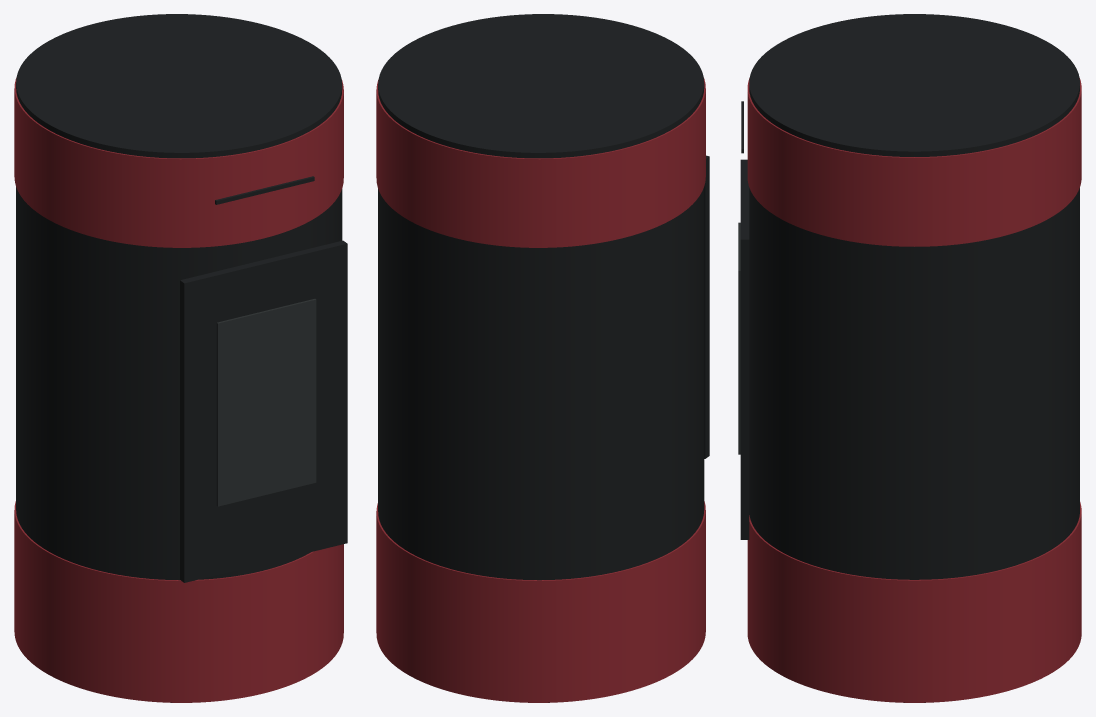
Rendered from ravelli-hrv-140-globe-bordeaux.glb.
The picture shows the model from 3 angles, left to right: view 1: azimuth 30°, elevation 25°; view 2: azimuth 150°, elevation 25°; view 3: azimuth 270°, elevation 25°; orthographic projection.
Visible parts, largest first — view 1: Corpo, Fascia inferiore, Coperchio, Porta, Fascia superiore, Vetro sportello, Fessura superiore; view 2: Corpo, Fascia inferiore, Coperchio, Fascia superiore, Porta; view 3: Corpo, Fascia inferiore, Coperchio, Fascia superiore, Porta, Vetro sportello.
Boxes of the visible parts, x1,y1,x2,y2 form: Corpo: (16,97,342,702); Fascia inferiore: (14,501,343,702); Coperchio: (16,14,342,158); Porta: (180,240,347,582); Fascia superiore: (14,77,343,247); Vetro sportello: (216,299,316,506); Fessura superiore: (215,176,314,204); Corpo: (378,88,704,702); Fascia inferiore: (376,501,705,702); Coperchio: (378,14,704,158); Fascia superiore: (376,77,705,247); Porta: (704,155,709,458); Corpo: (749,100,1079,702); Fascia inferiore: (747,502,1081,702); Coperchio: (749,14,1079,156); Fascia superiore: (747,78,1081,246); Porta: (740,159,749,539); Vetro sportello: (738,222,740,454).
Bounding box in the file's own units: 0.6161 × 1.14 × 0.6436.
